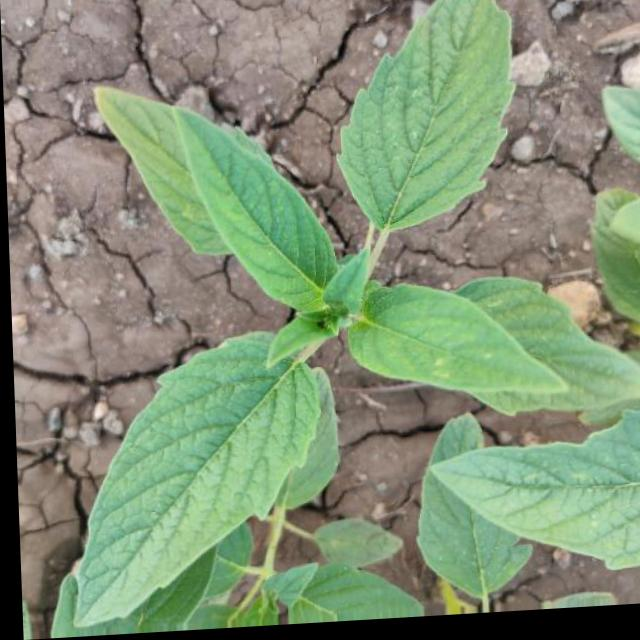crop: (9, 0, 640, 639)
